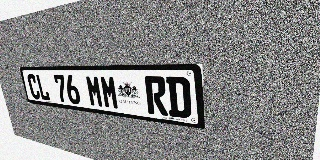6: (64, 75, 81, 105)
7: (53, 75, 69, 103)
C: (26, 74, 41, 100)
D: (166, 76, 192, 119)
L: (35, 74, 51, 101)
M: (99, 75, 120, 110), (85, 75, 104, 108)
R: (144, 76, 168, 116)
